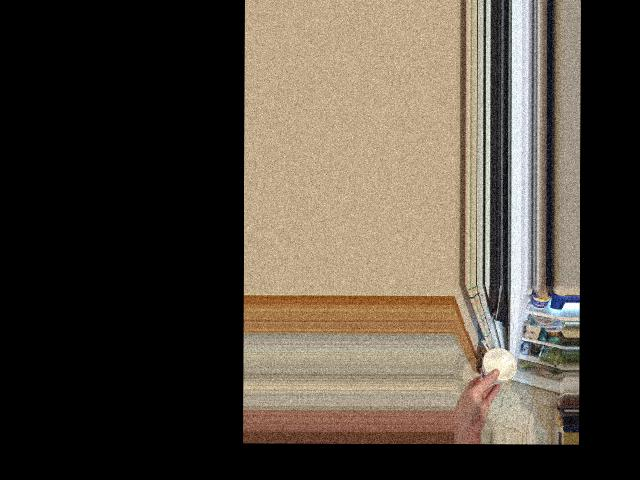cotage: (477, 344, 514, 381)
